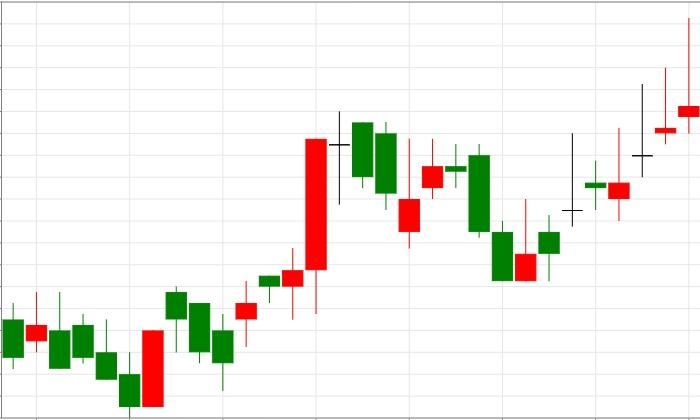inverse_hammer_rise: (445, 143, 537, 283)
